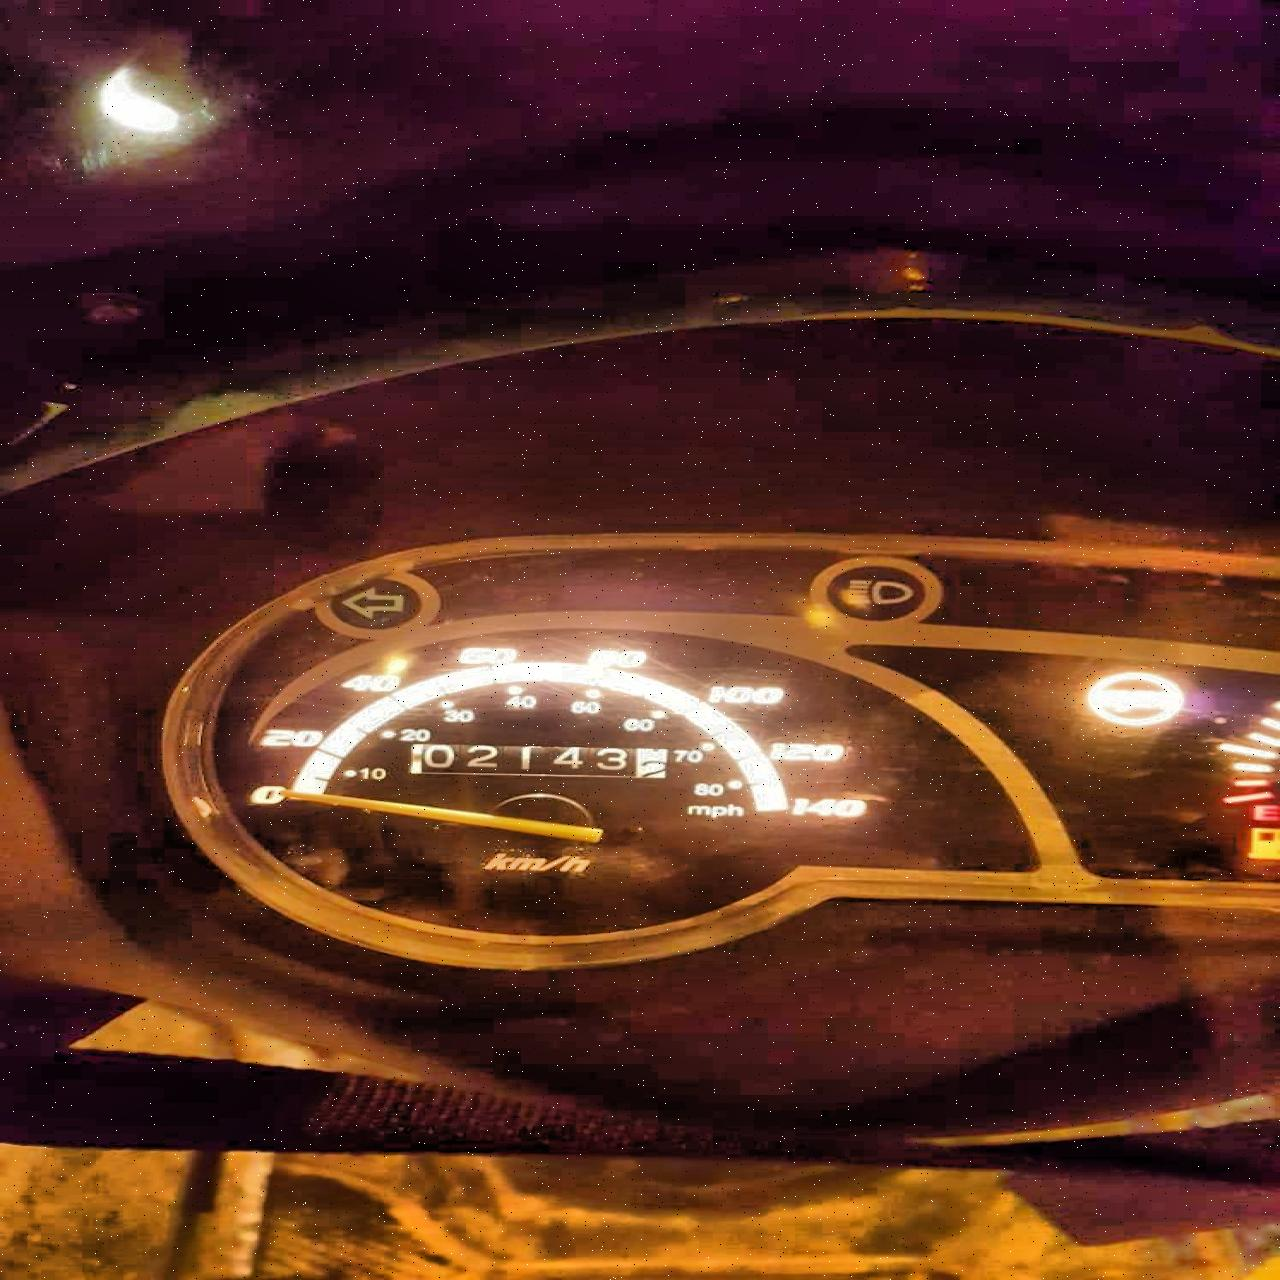0: (418, 743, 456, 769)
1: (512, 743, 537, 772)
2: (461, 744, 501, 771), (634, 757, 668, 781)
3: (594, 745, 627, 774)
4: (549, 744, 587, 769)
odometer: (408, 741, 675, 783)
